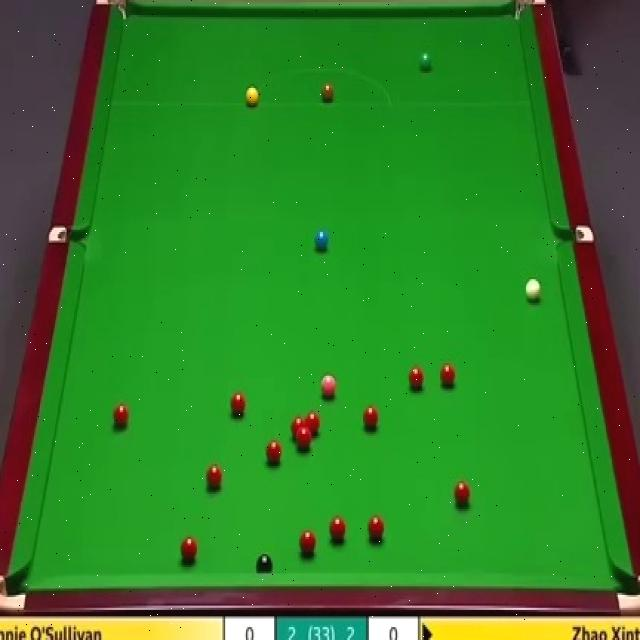black-ball: (256, 554, 273, 574)
blue-ball: (312, 225, 329, 253)
brown-ball: (321, 83, 334, 102)
green-ball: (417, 52, 433, 72)
pink-ball: (320, 370, 338, 399)
red-ball: (407, 364, 425, 395), (367, 514, 385, 543), (453, 479, 472, 506), (206, 461, 223, 490), (180, 536, 198, 563), (329, 516, 346, 543), (362, 404, 378, 432), (229, 392, 246, 418), (439, 365, 456, 390), (300, 530, 316, 556), (113, 402, 129, 428), (306, 412, 320, 439), (266, 440, 281, 464), (291, 416, 305, 438), (297, 430, 311, 450)
white-ball: (524, 276, 543, 306)
yellow-ball: (244, 85, 259, 106)
